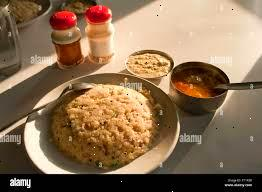upma: (64, 92, 158, 162)
